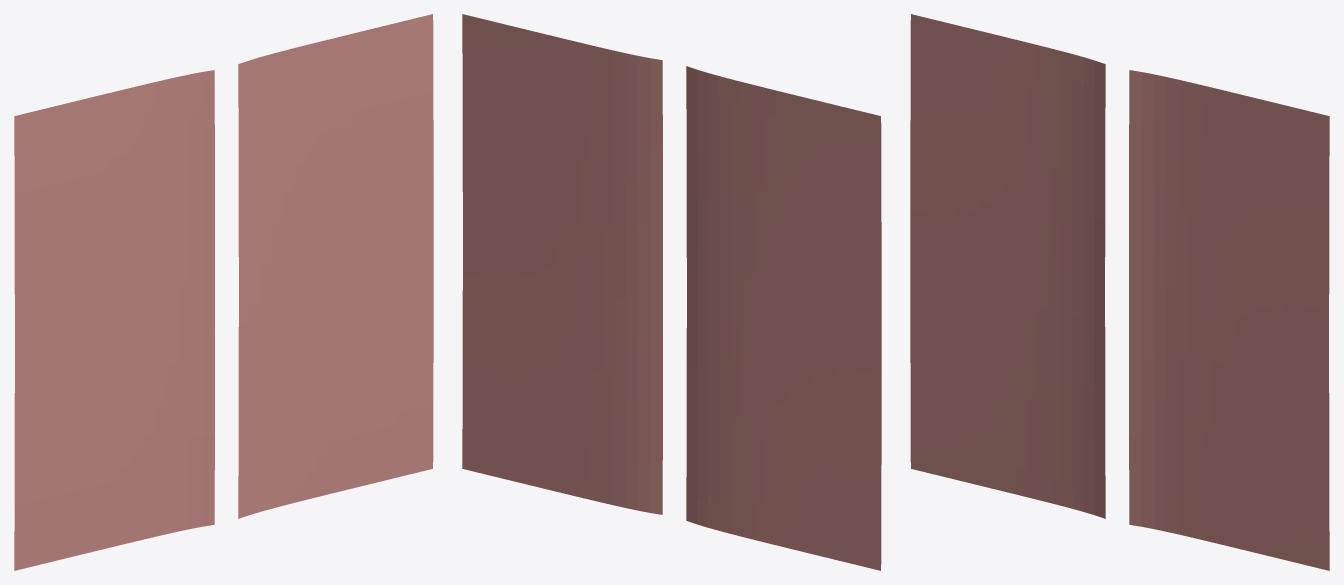
The model's file is dranmar_closure_tissue_demo.glb.
3 views of the same model, side by side, from view 1: azimuth 30°, elevation 25°; view 2: azimuth 150°, elevation 25°; view 3: azimuth 330°, elevation 25° (orthographic).
Visible parts, largest first — view 1: left, right; view 2: right, left; view 3: right, left.
Boxes of the visible parts, bbox=[...] form: left: bbox=[14, 70, 214, 570]; right: bbox=[238, 14, 433, 518]; right: bbox=[462, 14, 662, 514]; left: bbox=[686, 66, 881, 570]; right: bbox=[1129, 70, 1329, 570]; left: bbox=[910, 14, 1105, 518].
Size of the model in its own units: 0.106 by 0.11 by 0.00143.
